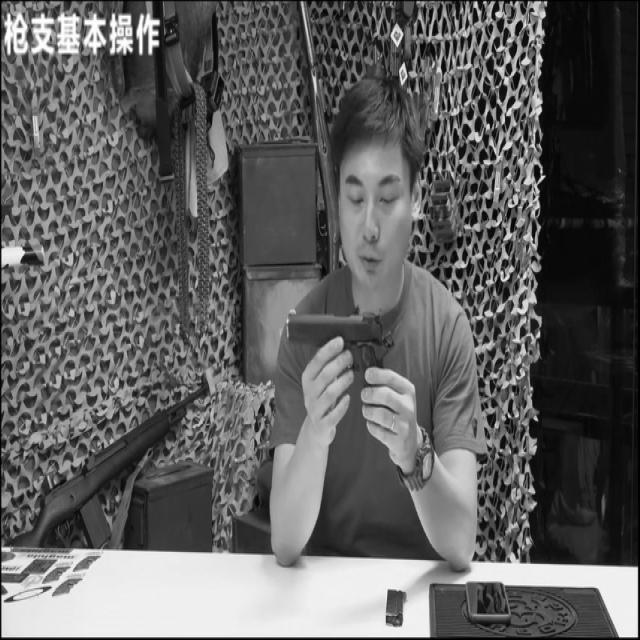Hand-Gun: (248, 250, 452, 522)
